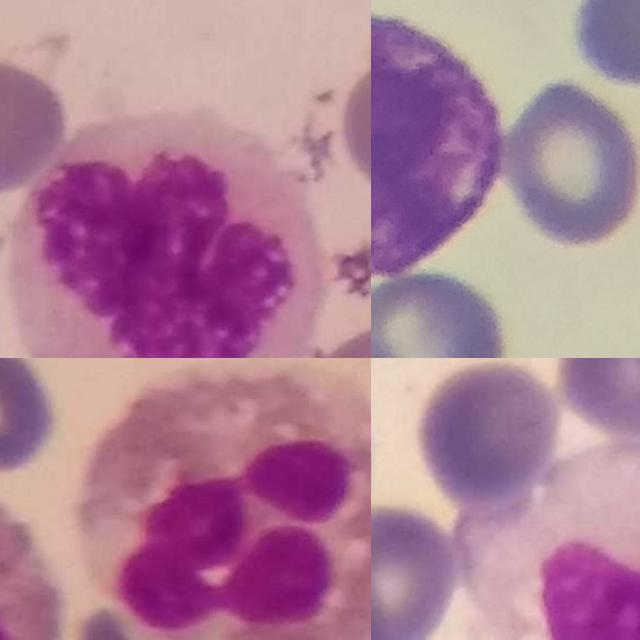Basophil: (371, 13, 508, 279)
Eosinophil: (69, 358, 371, 640)
Monocyte: (2, 117, 327, 358), (462, 437, 640, 640), (0, 480, 66, 640)
